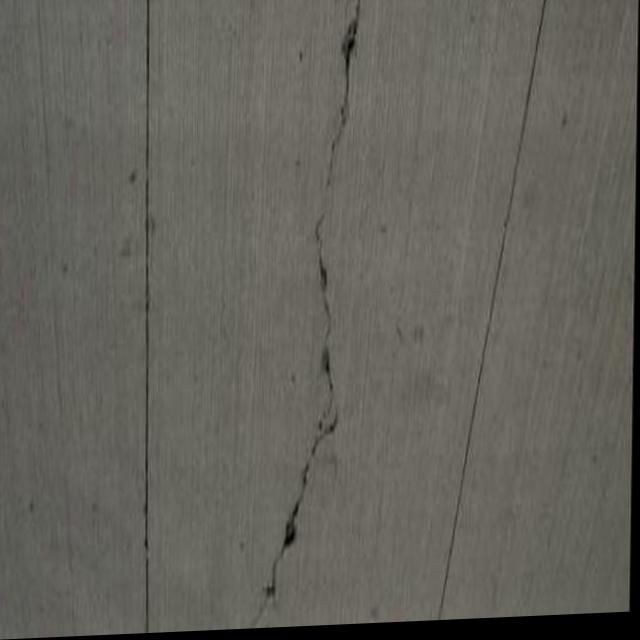Crack: (226, 0, 404, 632)
